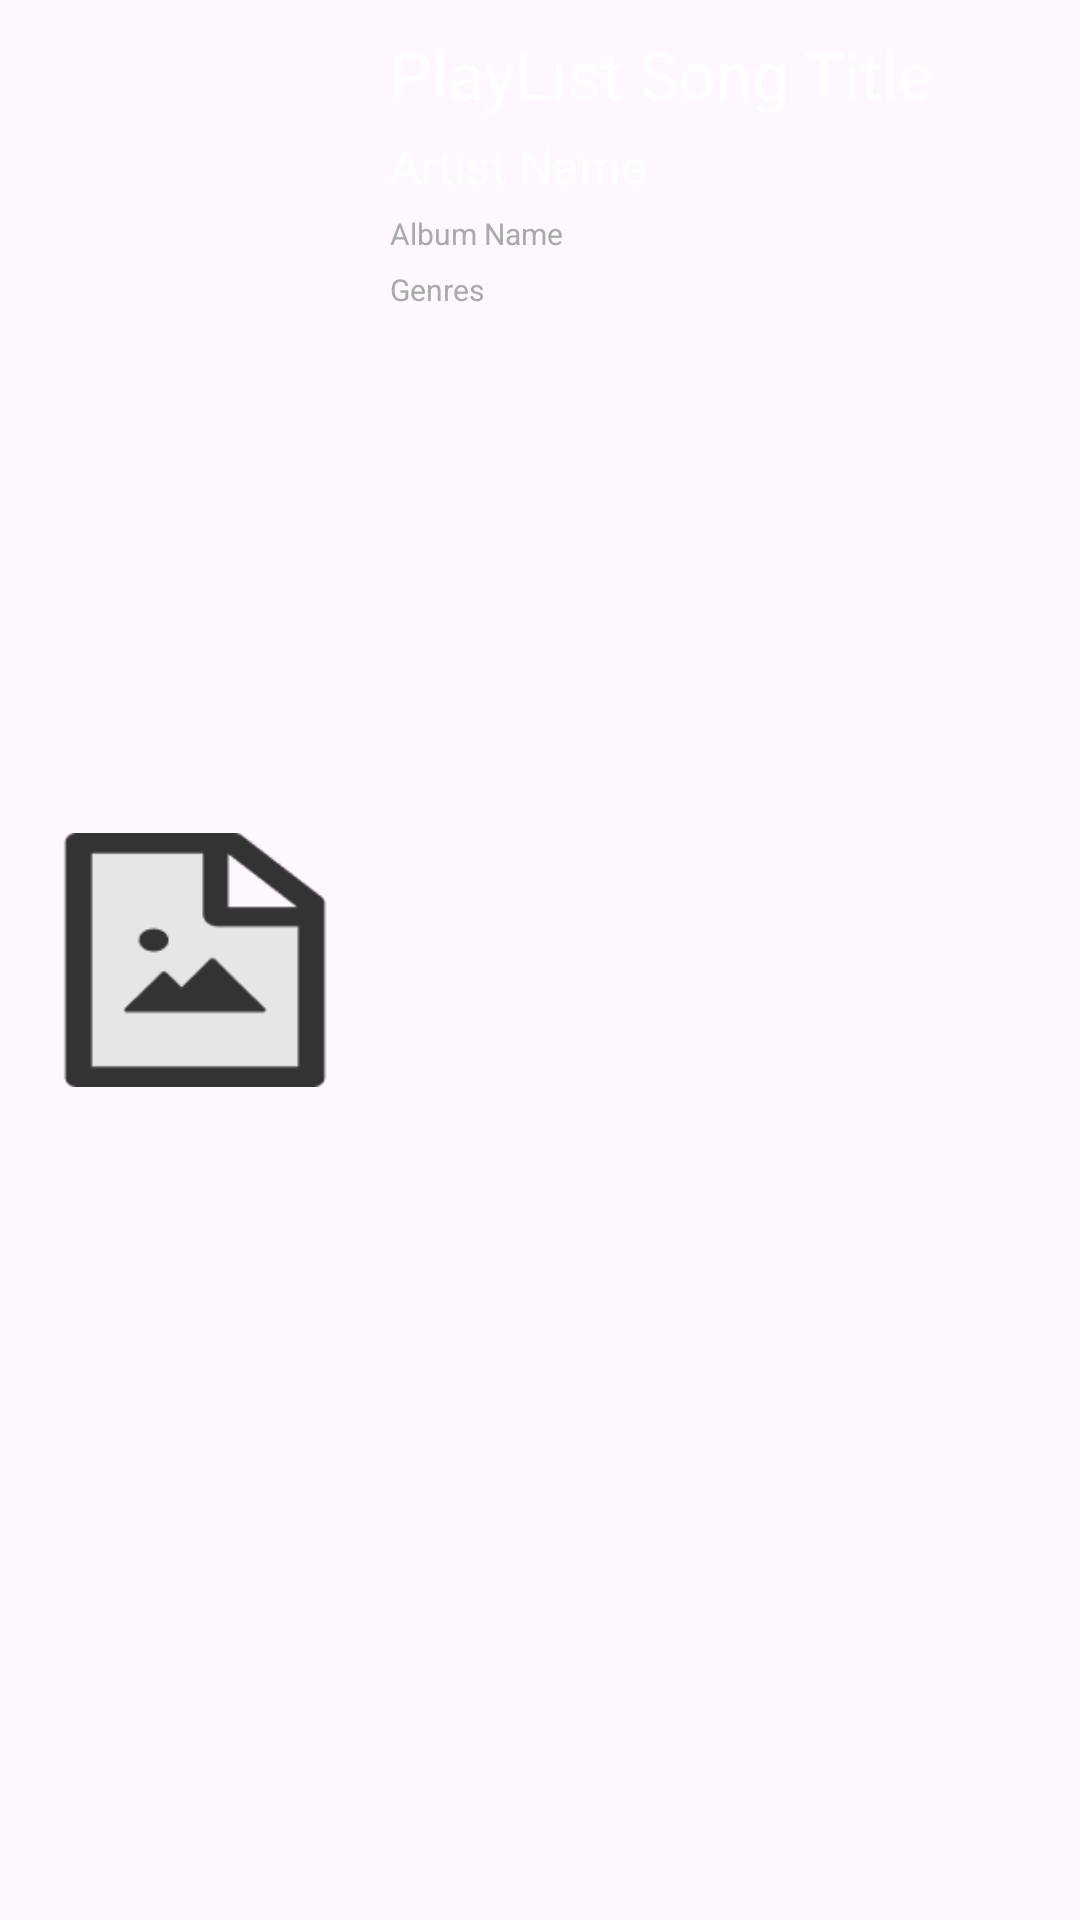

Icons on this 1080*1920 Android screen, each with the point to tap as point (x, y):
noimage: point (195, 960)
